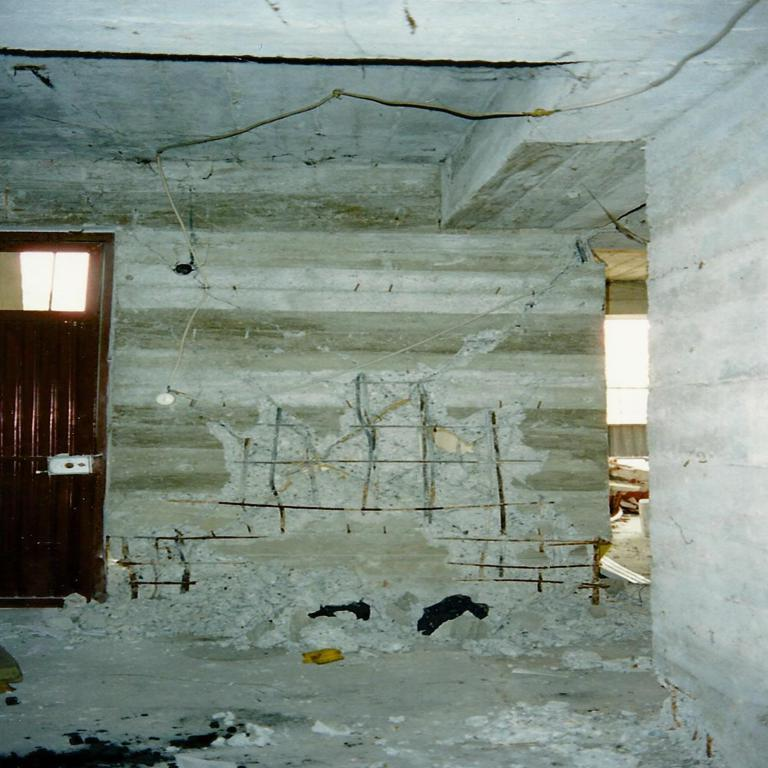spalling: (50, 330, 722, 768)
